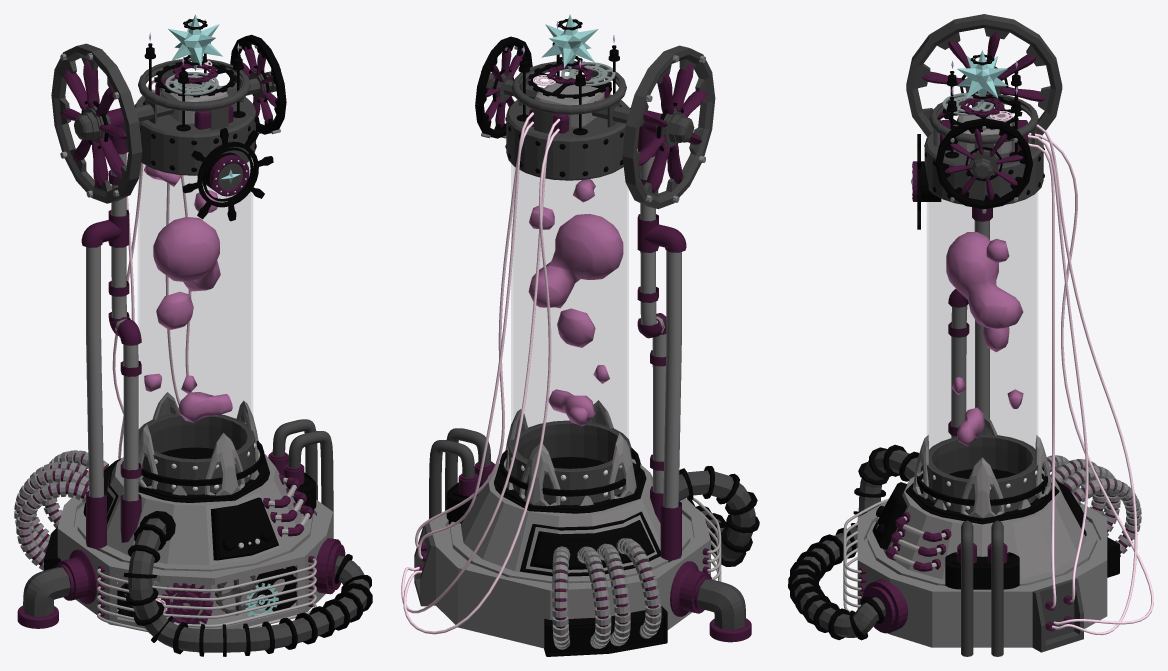
Rendered from st2_generator B (1).fbx.
3 views of the same model, side by side, from view 1: azimuth 30°, elevation 25°; view 2: azimuth 150°, elevation 25°; view 3: azimuth 270°, elevation 25° (orthographic). The views are drawn at different scales.
Visible parts, largest first — view 1: 1_generator_main_body, 3_generator_bottom_main, 3_generator_bottom_pipe5_1, 1_generator_main_body_Mball, 3_generator_bottom_tube5_1, 1_generator_main_body_etc5, 2_generator_top_wheel2_1, 3_generator_bottom_tube5_2, 1_generator_main_body_etc1, 3_generator_bottom_pipe5_3, 3_generator_bottom_pipe3_1, 2_generator_top_wheel2_2 (+32 smaller); view 2: 3_generator_bottom_main, 1_generator_main_body, 1_generator_main_body_Mball, 3_generator_bottom_pipe5_1, 3_generator_bottom_etc6, 1_generator_main_body_etc1, 1_generator_main_body_etc5, 2_generator_top_wheel2_1, 3_generator_bottom_etc3, 3_generator_bottom_pipe5_3, 2_generator_top_wheel2_2, 1_generator_main_body_holder1 (+27 smaller); view 3: 1_generator_main_body, 3_generator_bottom_main, 3_generator_bottom_etc6, 1_generator_main_body_Mball, 1_generator_main_body_etc5, 2_generator_top_wheel2_1, 3_generator_bottom_tube5_2, 3_generator_bottom_tube5_1, 3_generator_bottom_pipe2_3, 1_generator_main_body_etc1, 3_generator_bottom_pipe5_1, 1_generator_main_body_holder1 (+19 smaller).
Part boxes in pixels (x1,y1,x2,y2): 1_generator_main_body: [139, 162, 250, 458]; 3_generator_bottom_main: [57, 454, 333, 628]; 3_generator_bottom_pipe5_1: [86, 153, 138, 501]; 1_generator_main_body_Mball: [144, 165, 232, 422]; 3_generator_bottom_tube5_1: [128, 518, 369, 652]; 1_generator_main_body_etc5: [138, 413, 255, 494]; 2_generator_top_wheel2_1: [51, 43, 142, 203]; 3_generator_bottom_tube5_2: [123, 511, 372, 656]; 1_generator_main_body_etc1: [134, 92, 255, 175]; 3_generator_bottom_pipe5_3: [86, 108, 141, 550]; 3_generator_bottom_pipe3_1: [97, 558, 316, 631]; 2_generator_top_wheel2_2: [60, 60, 126, 188]; 3_generator_bottom_main: [429, 459, 710, 648]; 1_generator_main_body: [513, 166, 626, 468]; 1_generator_main_body_Mball: [528, 179, 623, 426]; 3_generator_bottom_pipe5_1: [640, 156, 681, 508]; 3_generator_bottom_etc6: [401, 112, 560, 634]; 1_generator_main_body_etc1: [506, 94, 629, 180]; 1_generator_main_body_etc5: [509, 420, 631, 505]; 2_generator_top_wheel2_1: [622, 45, 715, 209]; 3_generator_bottom_etc3: [520, 511, 660, 576]; 3_generator_bottom_pipe5_3: [637, 110, 681, 562]; 2_generator_top_wheel2_2: [638, 62, 707, 193]; 1_generator_main_body_holder1: [503, 400, 636, 506]; 1_generator_main_body: [928, 193, 1036, 478]; 3_generator_bottom_main: [857, 471, 1107, 647]; 3_generator_bottom_etc6: [1028, 124, 1153, 635]; 1_generator_main_body_Mball: [946, 232, 1023, 446]; 1_generator_main_body_etc5: [926, 434, 1038, 513]; 2_generator_top_wheel2_1: [906, 14, 1062, 136]; 3_generator_bottom_tube5_2: [788, 444, 919, 640]; 3_generator_bottom_tube5_1: [792, 450, 922, 637]; 3_generator_bottom_pipe2_3: [961, 520, 1003, 656]; 1_generator_main_body_etc1: [924, 122, 1043, 204]; 3_generator_bottom_pipe5_1: [951, 220, 989, 437]; 1_generator_main_body_holder1: [912, 412, 1051, 518].
Size of the model in its own units: 718 by 1282 by 771.
